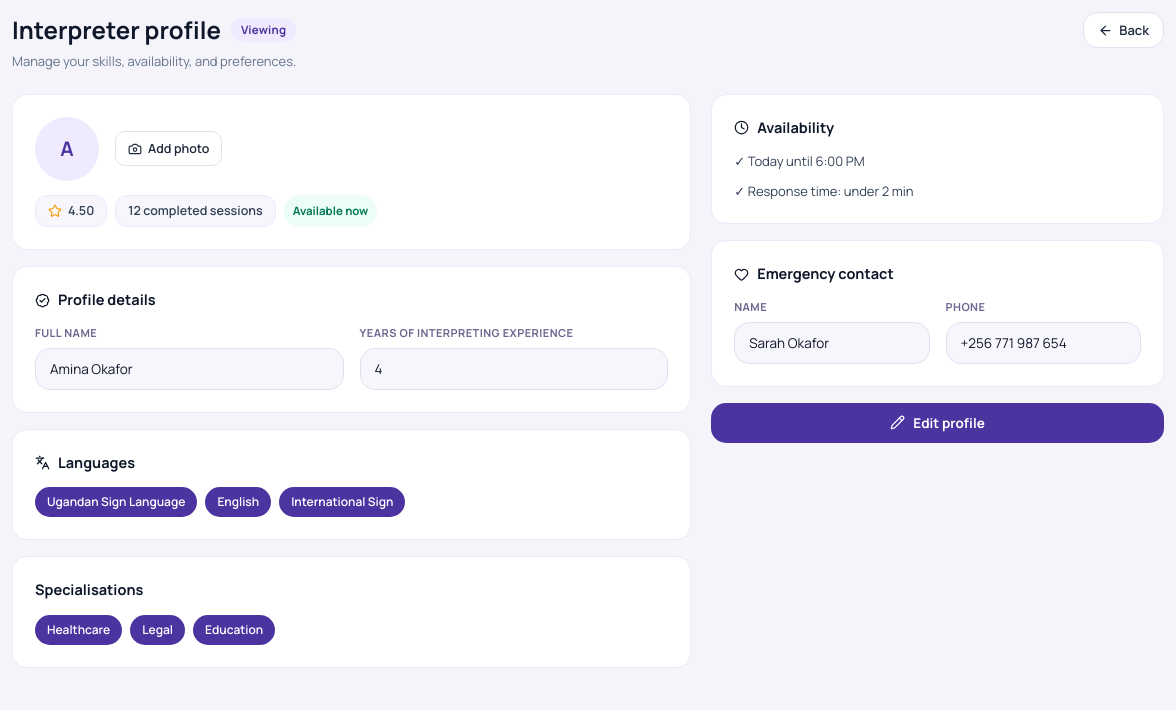
Test case: interpreter ProfilePage › cancel puts the saved years back
The image size is (1176, 710).
Step 1. Click the button "Edit profile" → (938, 422), box [711,402,1164,442]
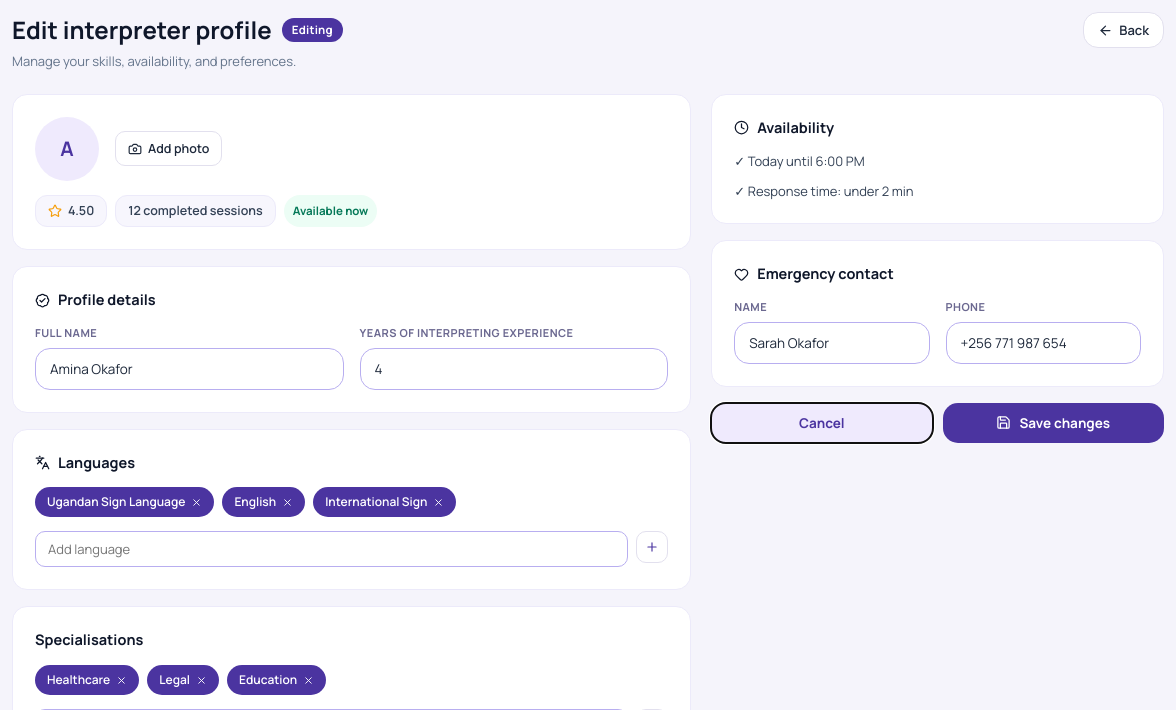
Step 2. Replace the text in the number field labelled "Years of interpreting experience" with "9" → (514, 368), box [360,348,668,390]
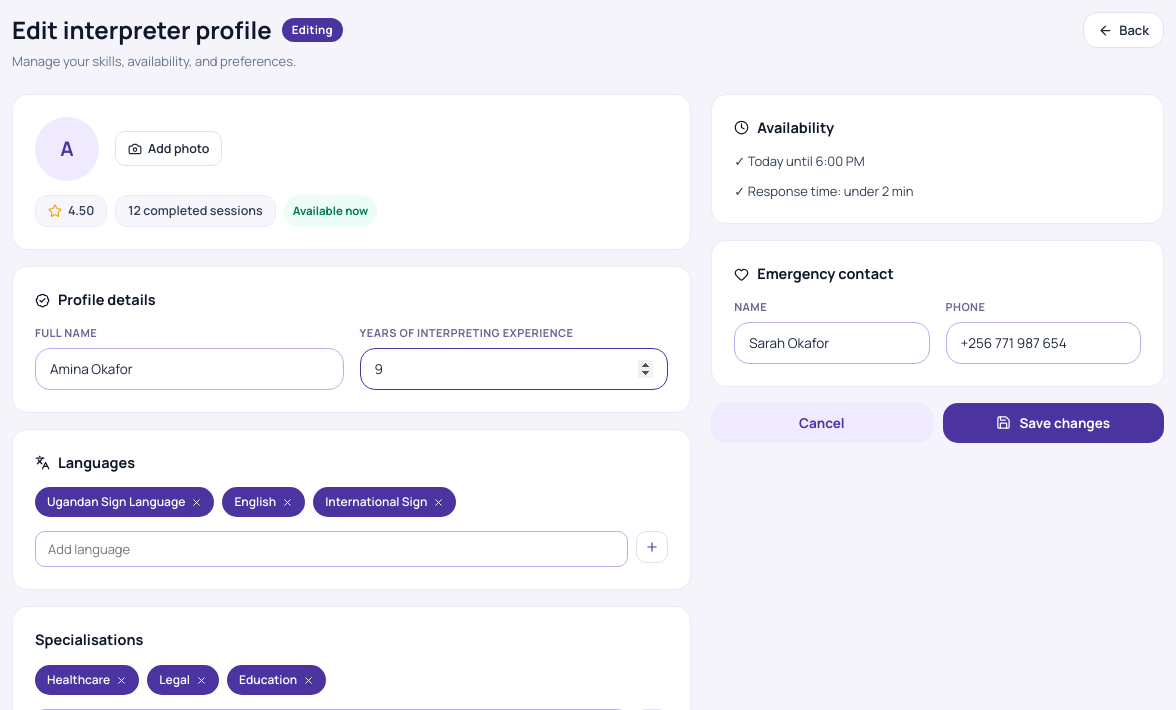
Step 3. Click the button "Cancel" → (822, 422), box [711,402,933,442]
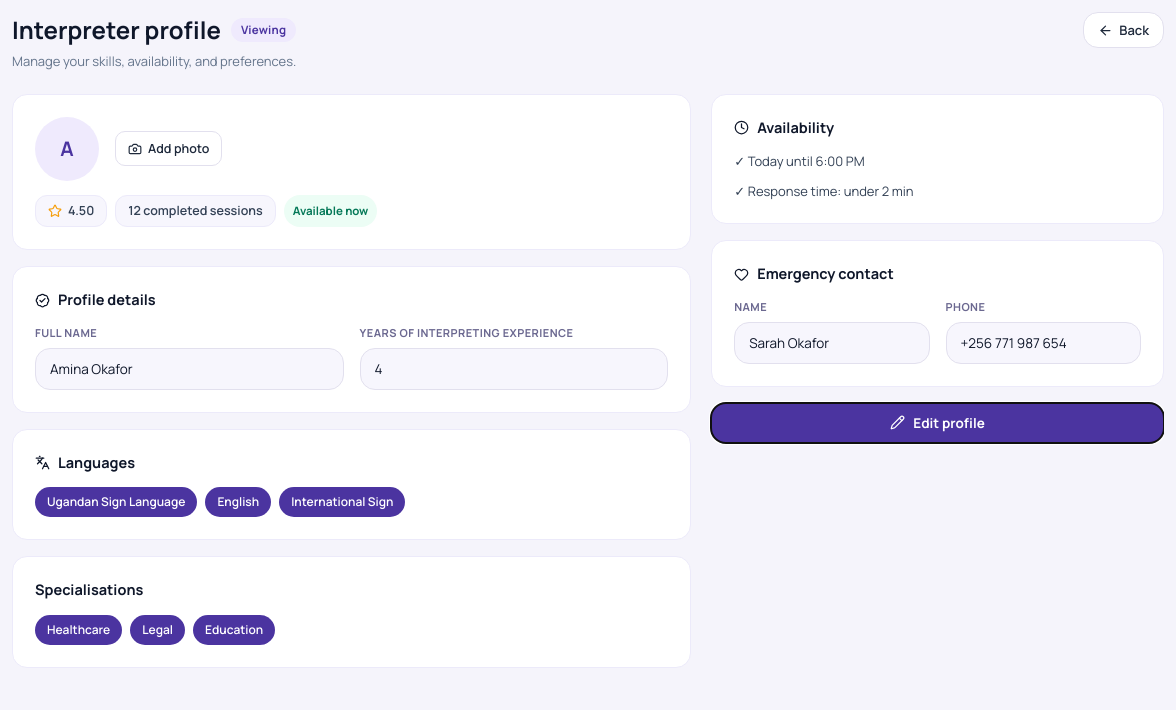
Expected: the number field labelled "Years of interpreting experience" holds "4", [360,348,668,390]
